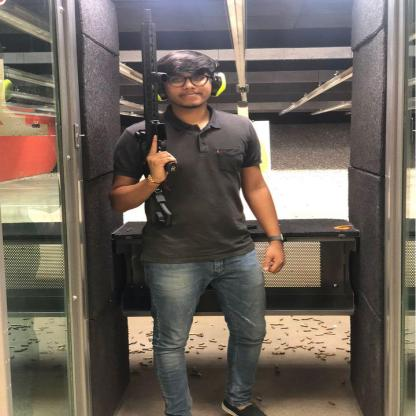rifle: (132, 8, 180, 230)
